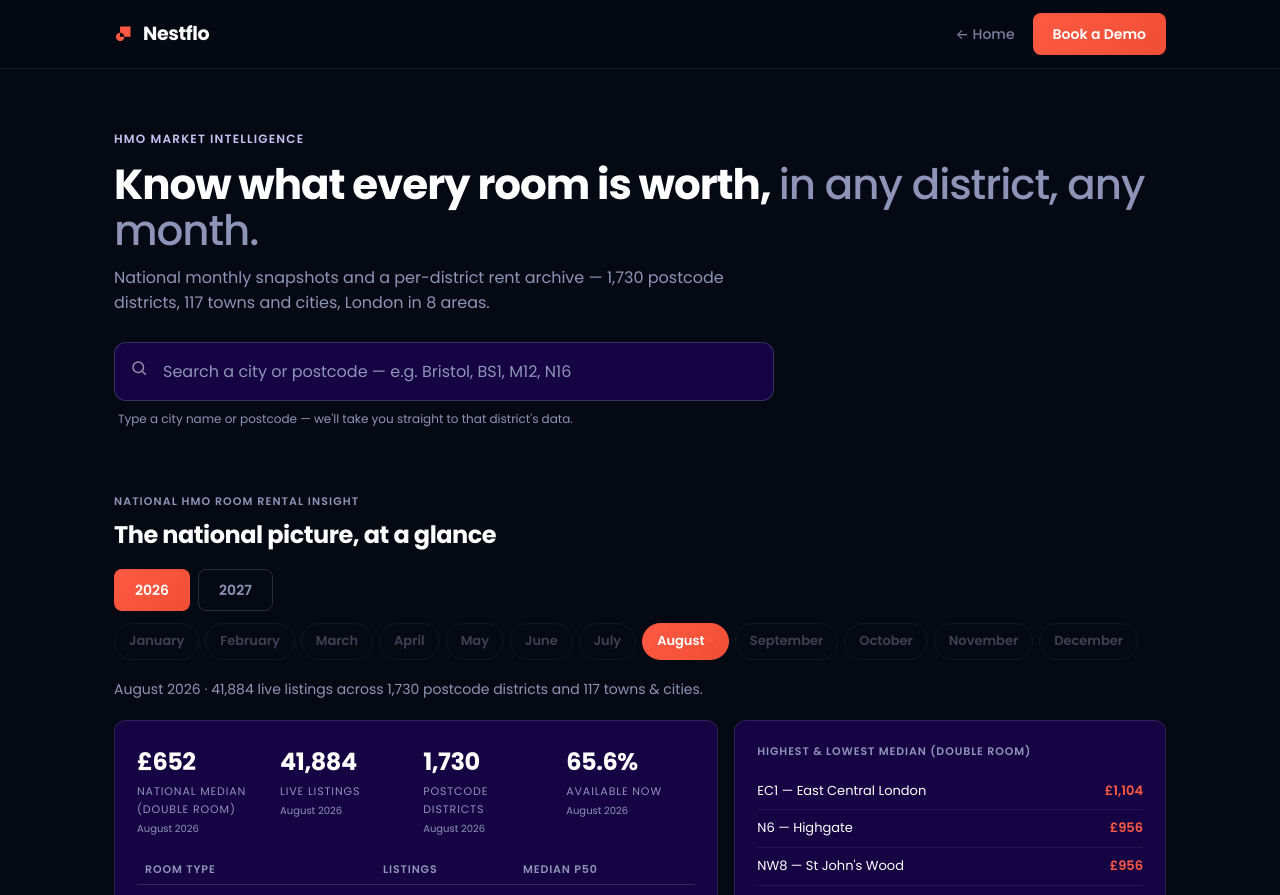
Test case: AC-3/AC-4 hero copy and search interaction › suggests a district page with a "District →" affordance for a postcode
In the dropdown with placeholder "Search a city or postcode — e.g. Bristol, BS1, M12, N16": (444, 372) top-left (114, 342), bottom-right (774, 401), type "BS1"
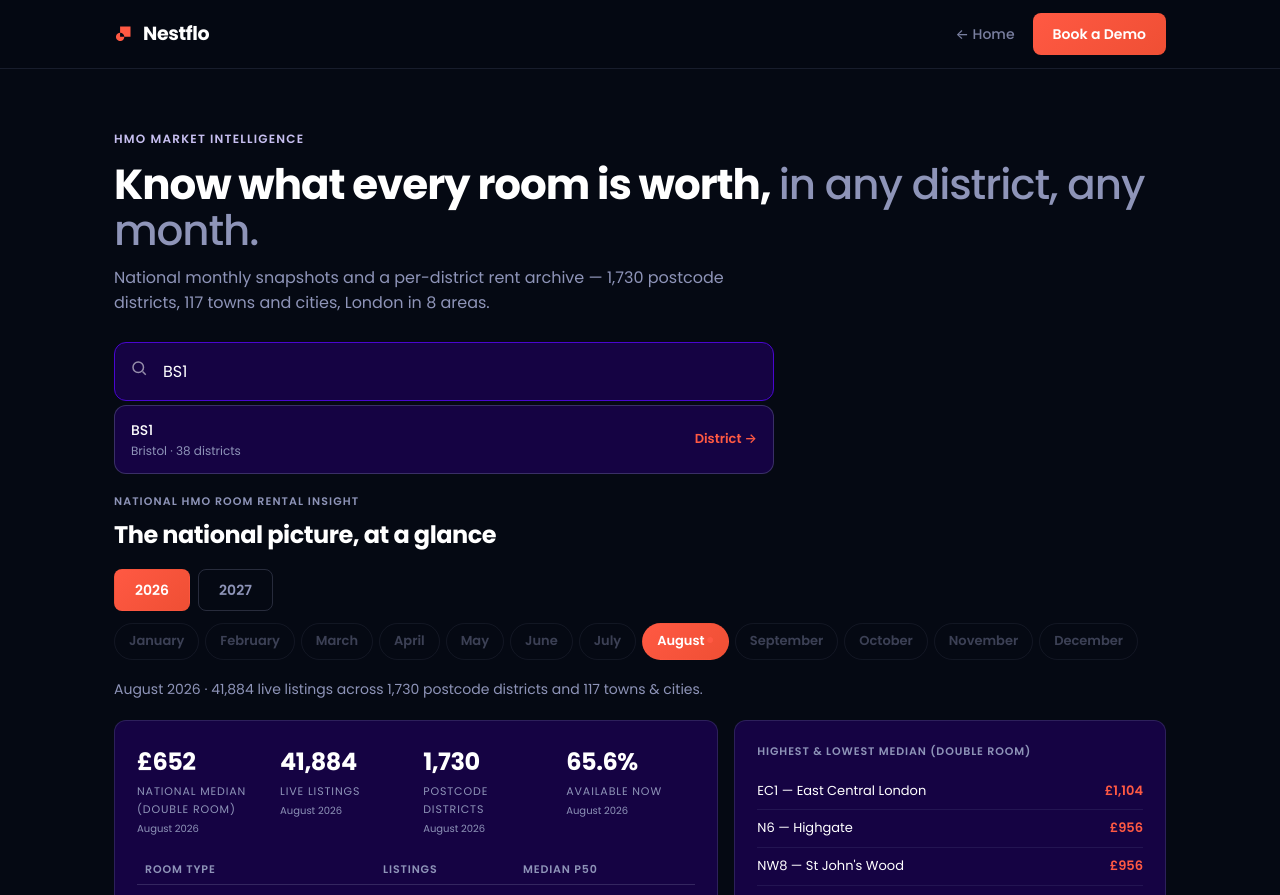
Expected: the list "BS1 Bristol · 38 districts District →" is shown, top-left (114, 404), bottom-right (774, 474)
